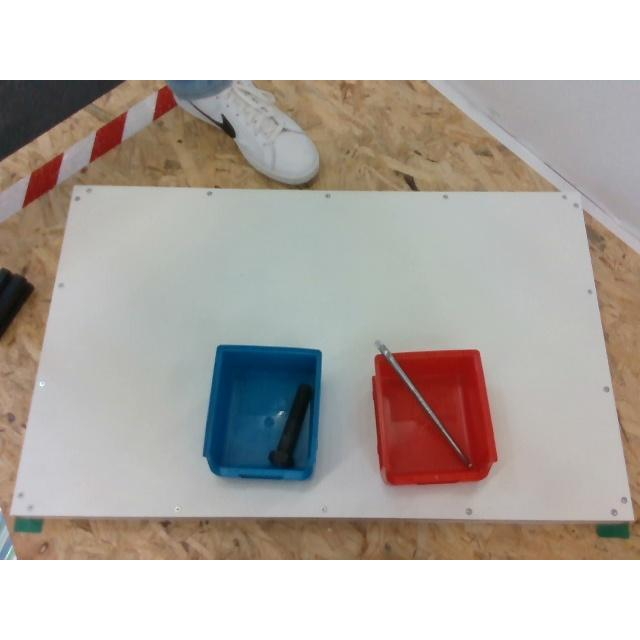AllenKey: (374, 340, 472, 468)
M20_100: (268, 383, 312, 467)
S40_40_B: (0, 268, 32, 336)
container_box_blue: (205, 344, 322, 472)
container_box_red: (372, 350, 496, 482)
